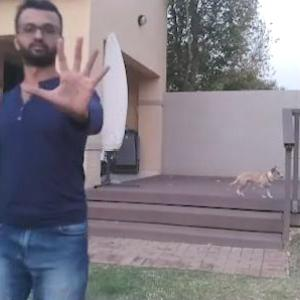follow_hand: (18, 31, 115, 123)
